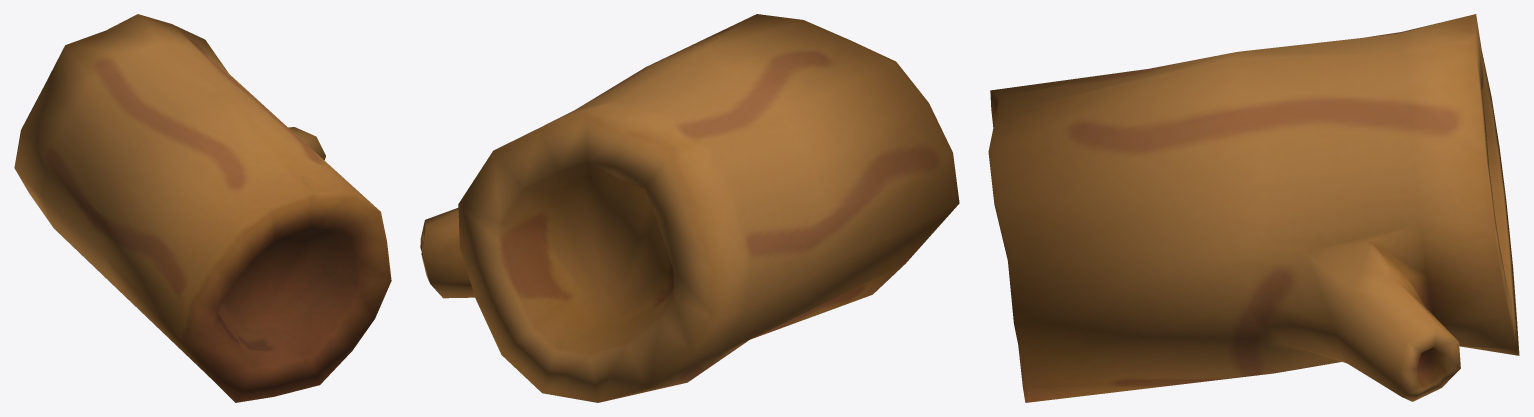
The model's file is bullet chara3.fbx.
3 renders of one model, left to right at view 1: azimuth 30°, elevation 25°; view 2: azimuth 150°, elevation 25°; view 3: azimuth 270°, elevation 25°, orthographic. The views are drawn at different scales.
Parts seen in each view (by area): view 1: chara3 lv2.002; view 2: chara3 lv2.002; view 3: chara3 lv2.002.
Boxes of the visible parts, x1,y1,x2,y2 form: chara3 lv2.002: (14, 14, 391, 402); chara3 lv2.002: (420, 14, 959, 402); chara3 lv2.002: (988, 14, 1519, 402).
Size of the model in its own units: 18.72 by 15.85 by 21.74.
